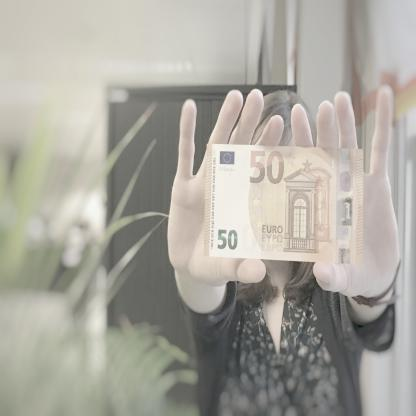euro_banknote: (204, 147, 366, 263)
